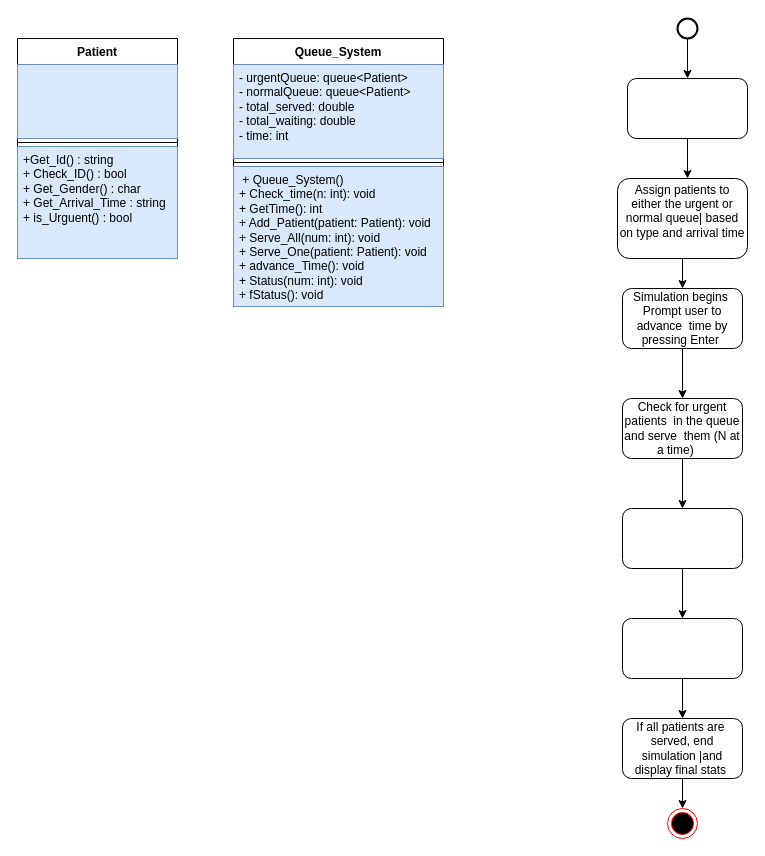
The diagram is 765 pixels wide and 856 high, and some of its shapes have lost their labels. The box of each missing label's shape, as (x1, y1, x2, y2) in pixels:
- ID : string - Gender : char - arrival_Time : string -is_urguent : bool: (16, 64, 178, 138)
Display current queue status and waiting stats: (622, 618, 742, 678)
Generate patient details (ID, Gender, Arrival Time, Type) based on scenario: (626, 78, 748, 138)
Serve normal patients if no urgent patients remain: (622, 508, 742, 568)
